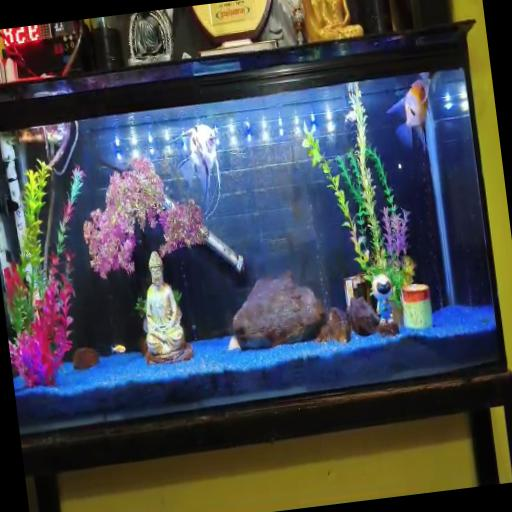Fish: (177, 124, 220, 218), (386, 76, 430, 150), (111, 344, 125, 354), (345, 110, 355, 124)
